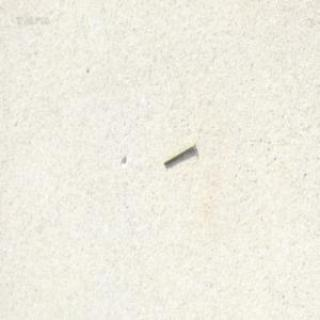Bolttrack_idkeyframe: (162, 138, 195, 165)
